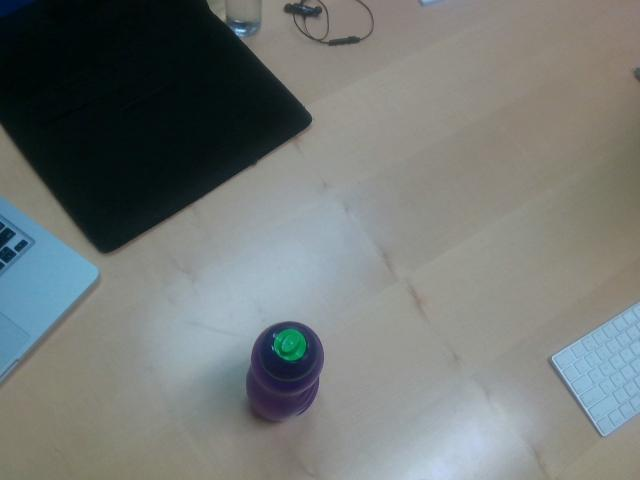bottle: (245, 321, 324, 425)
